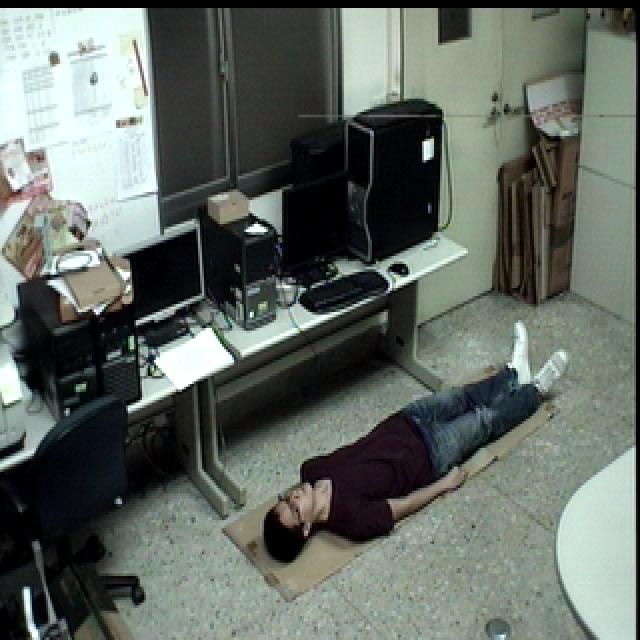lie: (260, 318, 573, 568)
